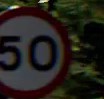Speed limit: (1, 3, 71, 96)
